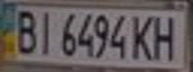4: (109, 11, 130, 60), (75, 10, 96, 58)
6: (54, 9, 78, 57)
9: (90, 10, 112, 60)
B: (9, 6, 39, 55)
H: (148, 11, 184, 62)
I: (33, 8, 57, 56)
K: (127, 11, 157, 61)
